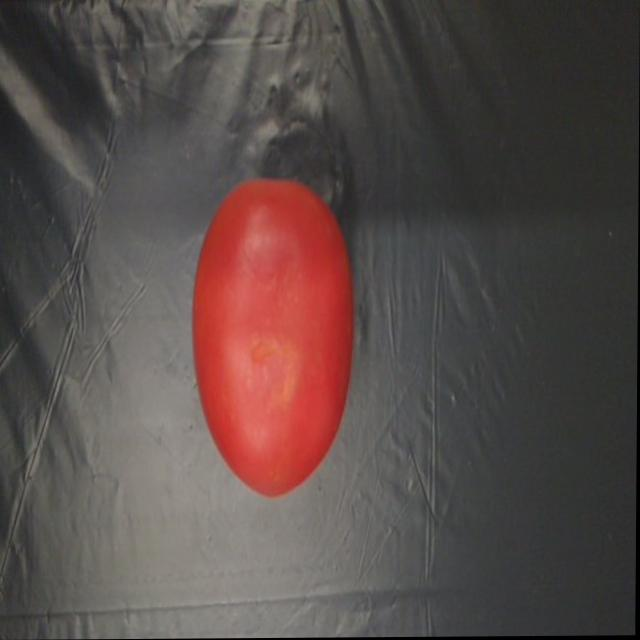kirmizi: (190, 169, 352, 505)
